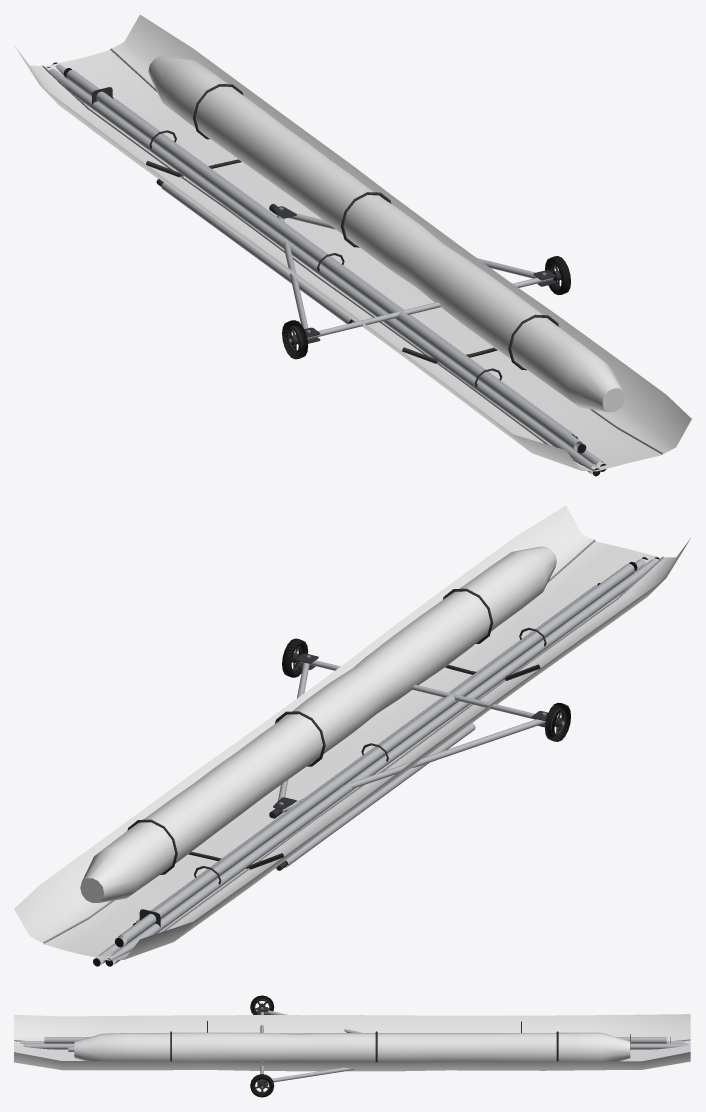
File: glider_kit.glb
3 renders of one model, top to bottom at view 1: azimuth 30°, elevation 25°; view 2: azimuth 150°, elevation 25°; view 3: azimuth 270°, elevation 25°, orthographic. The views are drawn at different scales.
Parts seen in each view (by area): view 1: kit_bundle_LOD0, kit_frame_LOD0; view 2: kit_bundle_LOD0, kit_frame_LOD0; view 3: kit_bundle_LOD0, kit_frame_LOD0.
Boxes of the visible parts, left/top/right/bottom form: kit_bundle_LOD0: left=15, top=14, right=691, bottom=476; kit_frame_LOD0: left=269, top=204, right=570, bottom=359; kit_bundle_LOD0: left=14, top=505, right=690, bottom=966; kit_frame_LOD0: left=269, top=638, right=570, bottom=818; kit_bundle_LOD0: left=14, top=1014, right=690, bottom=1071; kit_frame_LOD0: left=250, top=995, right=361, bottom=1097.
Size of what is drawn, in the model's own units: 1.61 by 0.3205 by 5.61.
Materials: 8 (1 with a texture image).
